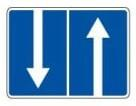road_sign: (6, 6, 131, 100)
